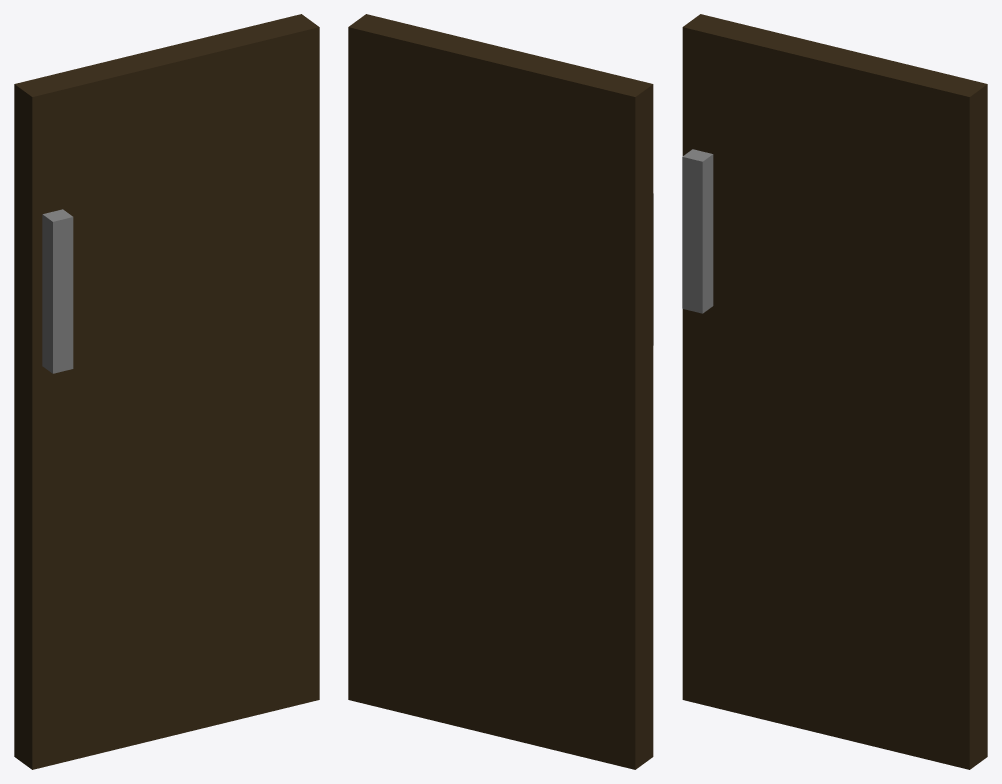
File: Office_Desk_Door.fbx
3 renders of one model, left to right at view 1: azimuth 30°, elevation 25°; view 2: azimuth 150°, elevation 25°; view 3: azimuth 330°, elevation 25°, orthographic.
Parts seen in each view (by area): view 1: Office_Desk_Door; view 2: Office_Desk_Door; view 3: Office_Desk_Door.
Part boxes in pixels (box(x1,y1,x2,y2)): Office_Desk_Door: box(14, 14, 319, 769); Office_Desk_Door: box(348, 14, 653, 769); Office_Desk_Door: box(682, 14, 987, 769).
Size of the model in its own units: 38.45 by 86.09 by 6.58.
